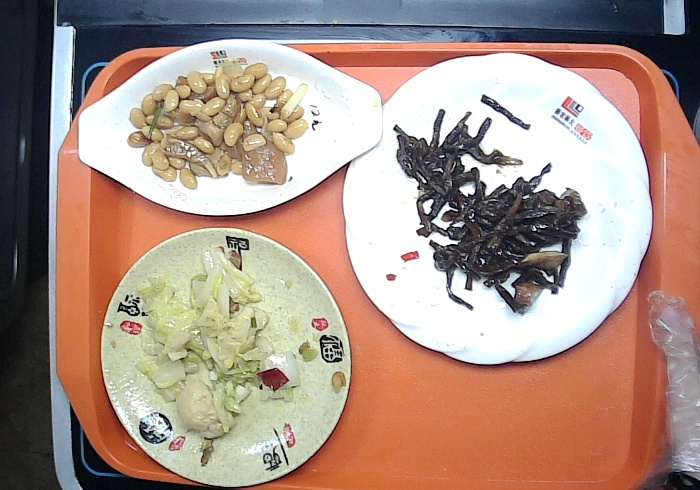NLDX-Bai_Zhe_Yuan_Pan: (339, 49, 655, 367)
NLDX-Fu_Zi_Yuan_Pan: (99, 225, 353, 490)
NLDX-Yu_Pan: (75, 36, 384, 218)
